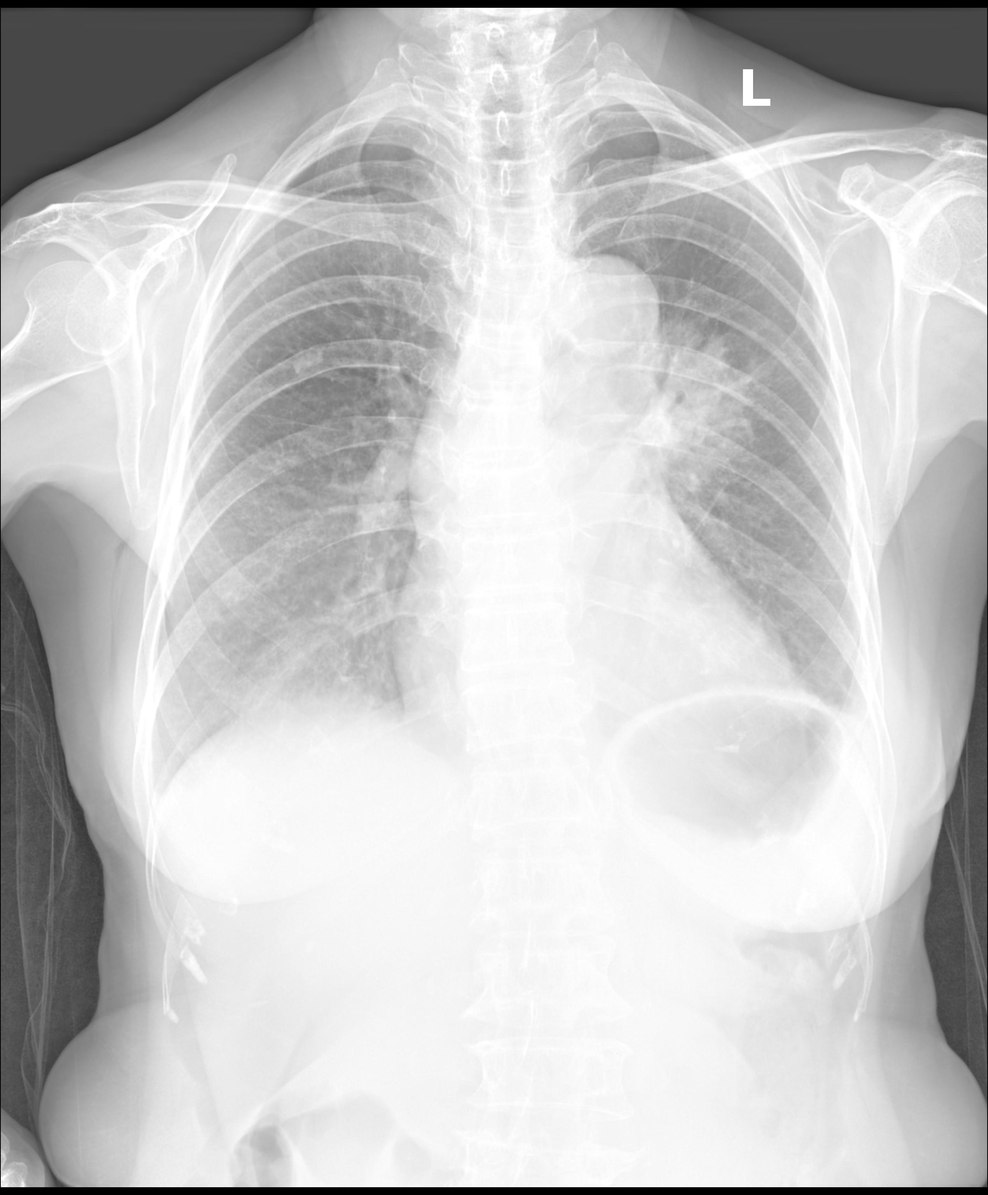Aortic enlargement: (530, 251, 663, 359)
Pleural thickening: (850, 692, 879, 745)
